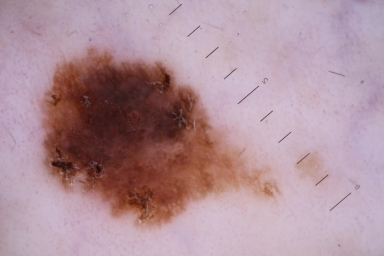nevus: (42, 55, 211, 226)
